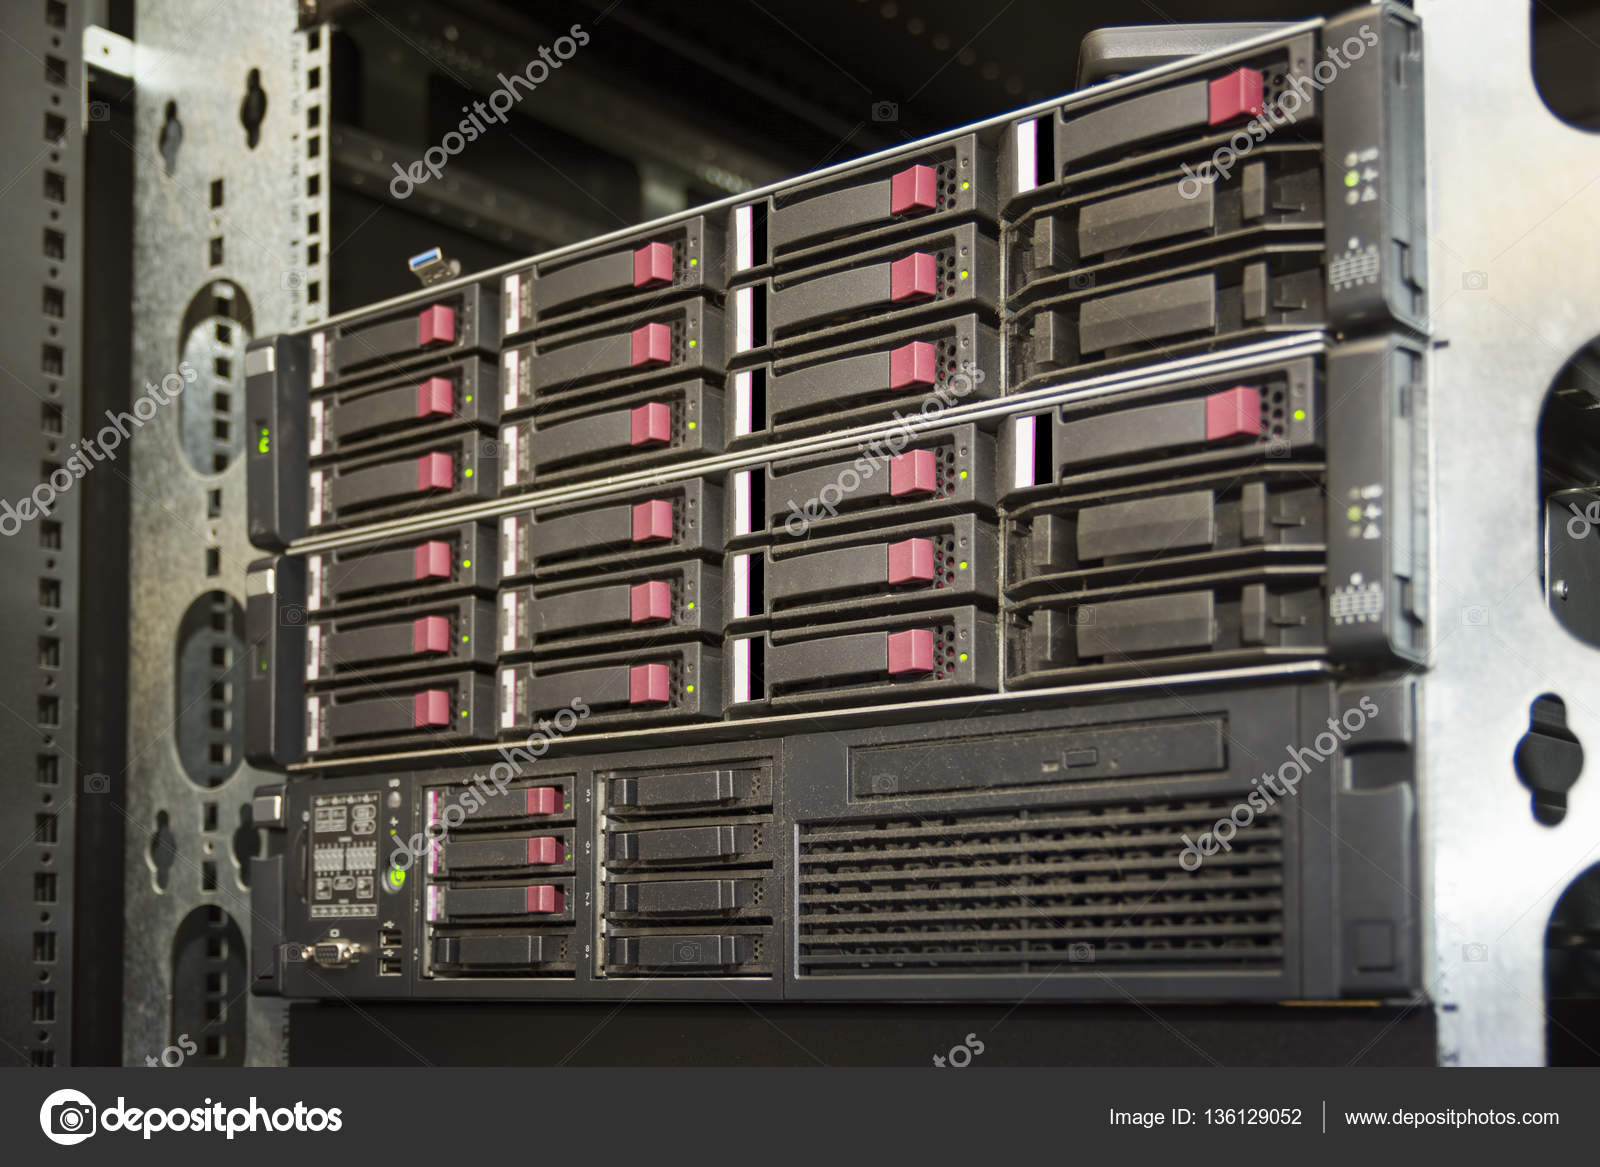Server: (234, 291, 1499, 1040)
